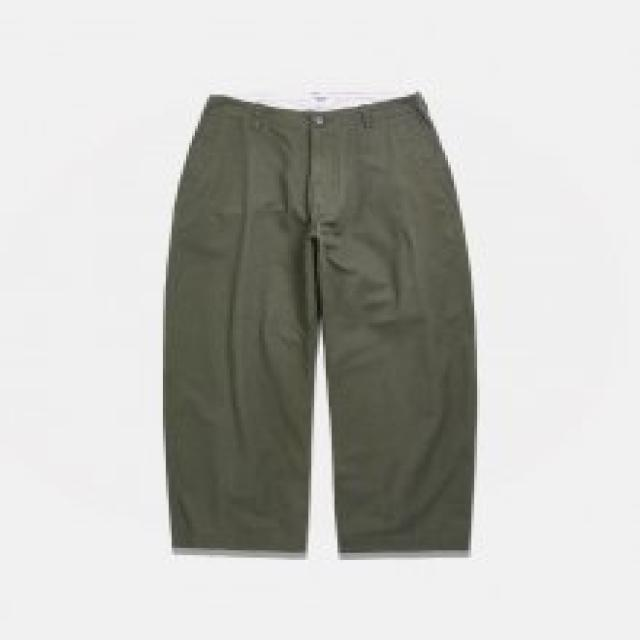long-pants: (163, 95, 477, 562)
